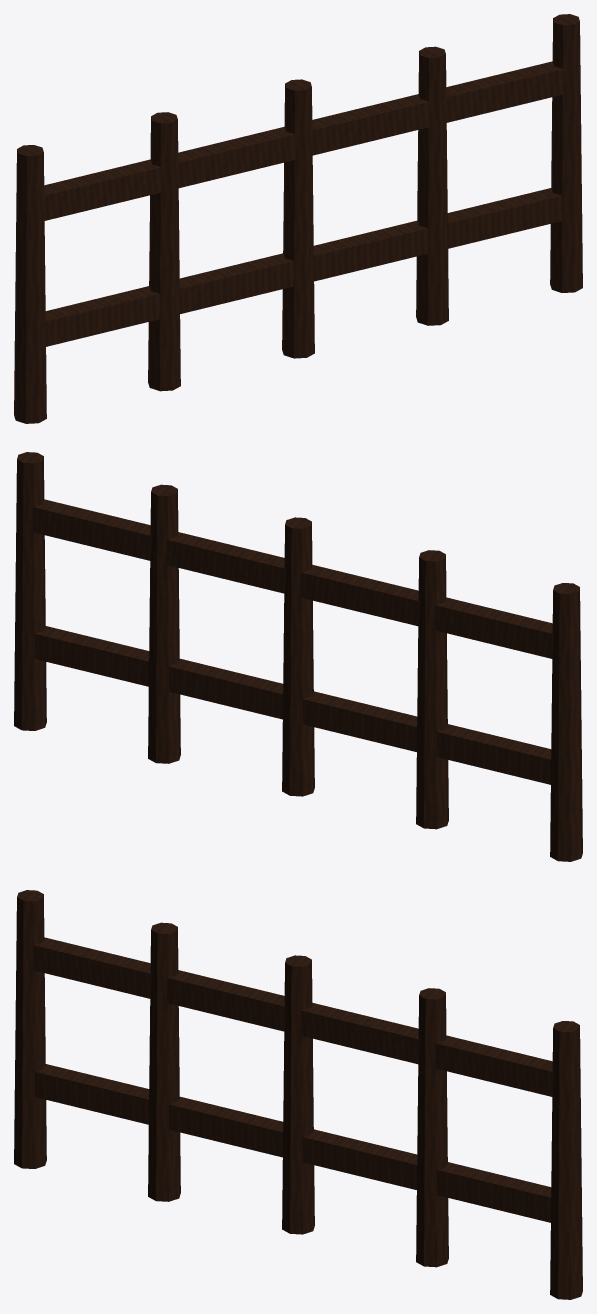
File: module_fence_2m.glb
3 views of the same model, one above another, from view 1: azimuth 30°, elevation 25°; view 2: azimuth 150°, elevation 25°; view 3: azimuth 330°, elevation 25° (orthographic).
Parts seen in each view (by area): view 1: fence_rail.001, fence_rail, fence_post, fence_post.004, fence_post.001, fence_post.002, fence_post.003; view 2: fence_rail.001, fence_rail, fence_post, fence_post.004, fence_post.001, fence_post.002, fence_post.003; view 3: fence_rail.001, fence_rail, fence_post.004, fence_post, fence_post.003, fence_post.001, fence_post.002.
Boxes of the visible parts, left/top/right/bottom form: fence_rail.001: left=43, top=61, right=564, bottom=220; fence_rail: left=45, top=188, right=561, bottom=346; fence_post: left=14, top=145, right=46, bottom=423; fence_post.004: left=550, top=14, right=582, bottom=292; fence_post.001: left=148, top=112, right=180, bottom=391; fence_post.002: left=282, top=79, right=314, bottom=358; fence_post.003: left=416, top=46, right=448, bottom=325; fence_rail.001: left=32, top=499, right=553, bottom=658; fence_rail: left=35, top=626, right=551, bottom=784; fence_post: left=550, top=583, right=582, bottom=861; fence_post.004: left=14, top=452, right=46, bottom=730; fence_post.001: left=416, top=550, right=448, bottom=829; fence_post.002: left=282, top=517, right=314, bottom=796; fence_post.003: left=148, top=484, right=180, bottom=763; fence_rail.001: left=32, top=937, right=553, bottom=1096; fence_rail: left=35, top=1064, right=551, bottom=1222; fence_post.004: left=550, top=1021, right=582, bottom=1299; fence_post: left=14, top=890, right=46, bottom=1168; fence_post.003: left=416, top=988, right=448, bottom=1267; fence_post.001: left=148, top=922, right=180, bottom=1201; fence_post.002: left=282, top=955, right=314, bottom=1234.
Bounding box in the file's own units: 2.11 × 0.95 × 0.11.
1 material, 1 textured.
